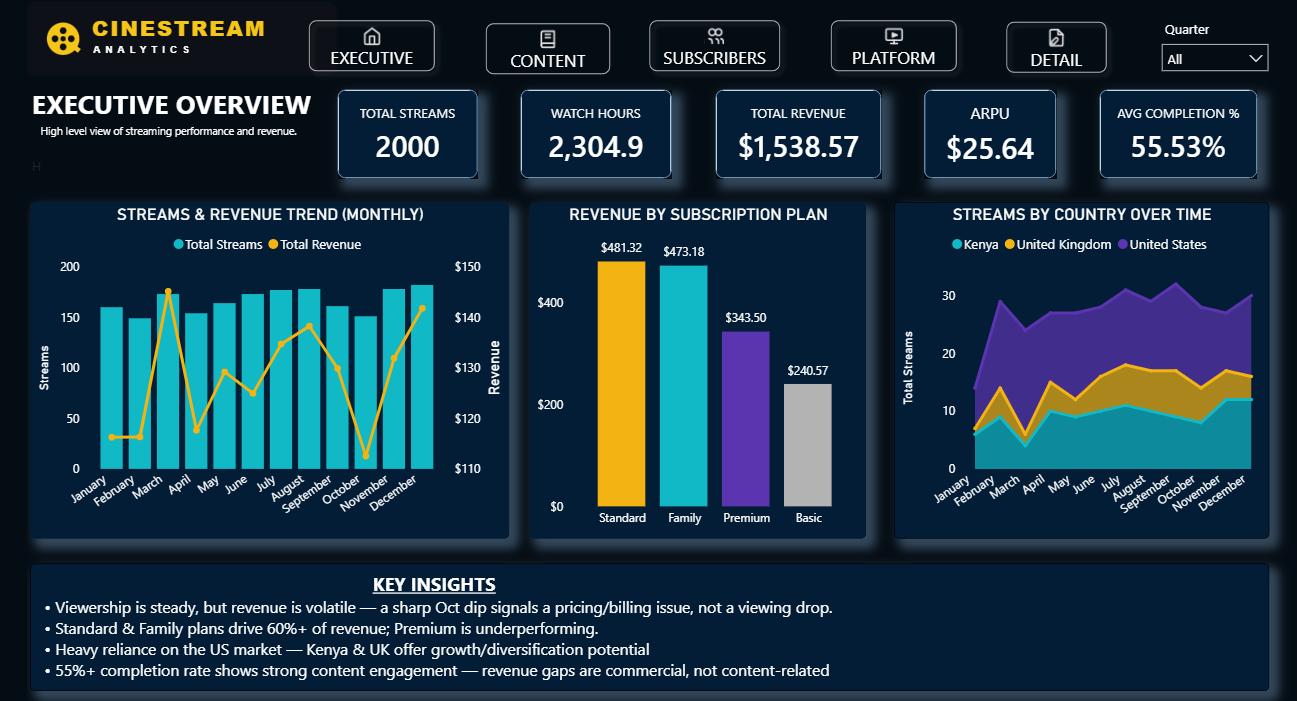

This screenshot's page, from the dashboard's own definition file:
{"tool":"powerbi","page":{"name":"EXECUTVE","canvas":[1280,720],"ordinal":0},"visuals":[{"type":"image","box":[0,0,314.1,82.6],"z":0},{"type":"slicer","fields":{"Values":["Date.Quarter"]},"box":[1141.6,16.2,127.9,69.6],"z":1000},{"type":"actionButton","box":[456.6,16.2,144.1,69.6],"z":2000},{"type":"actionButton","box":[621.8,13,150.6,69.6],"z":3000},{"type":"actionButton","box":[806.4,13,145.7,69.6],"z":4000},{"type":"actionButton","box":[984.5,14.6,119.8,69.6],"z":5000},{"type":"actionButton","box":[276.9,13,145.7,69.6],"z":6000},{"type":"textbox","box":[0,84.2,314.1,105.2],"z":7000},{"type":"cardVisual","fields":{"Data":["_Measures.Total Streams"]},"box":[314.1,92.3,142.5,90.7],"z":8000},{"type":"cardVisual","fields":{"Data":["_Measures.Total Watch Hours"]},"box":[500.3,92.3,153.8,90.7],"z":9000},{"type":"cardVisual","fields":{"Data":["_Measures.Total Revenue"]},"box":[697.9,92.3,168.4,90.7],"z":10000},{"type":"cardVisual","fields":{"Data":["_Measures.ARPU"]},"box":[910,92.3,134.4,90.7],"z":11000},{"type":"cardVisual","fields":{"Data":["_Measures.Avg Completion %"]},"box":[1088.1,92.3,160.3,90.7],"z":12000},{"type":"lineStackedColumnComboChart","title":"STREAMS & REVENUE TREND (MONTHLY)","fields":{"Category":["Date.MonthName"],"Y":["_Measures.Total Streams"],"Y2":["_Measures.Total Revenue"]},"box":[3.2,207.3,485.8,341.7],"z":13000},{"type":"clusteredColumnChart","title":"REVENUE BY SUBSCRIPTION PLAN","fields":{"Y":["_Measures.Total Revenue"],"Category":["Customer.SubscriptionPlan"]},"box":[510.1,207.3,341.7,341.7],"z":14000},{"type":"stackedAreaChart","title":"STREAMS BY COUNTRY OVER TIME","fields":{"Category":["Date.MonthName"],"Y":["_Measures.Total Streams"],"Series":["Customer.Country"]},"box":[879.2,207.3,380.5,341.7],"z":15000},{"type":"textbox","box":[3.2,573.2,1256.5,129.5],"z":16000}]}

Visuals, with their boxes on the page's 1280x720 design canvas (x1, y1, x2, y2). These are canvas units, not pixel positions in the 1297x701 screenshot, which may show the page scaled, cropped or inside an application window:
image: 0/0/314/83
slicer - Date.Quarter: 1142/16/1270/86
actionButton: 457/16/601/86
actionButton: 622/13/772/83
actionButton: 806/13/952/83
actionButton: 984/15/1104/84
actionButton: 277/13/423/83
textbox: 0/84/314/189
cardVisual - _Measures.Total Streams: 314/92/457/183
cardVisual - _Measures.Total Watch Hours: 500/92/654/183
cardVisual - _Measures.Total Revenue: 698/92/866/183
cardVisual - _Measures.ARPU: 910/92/1044/183
cardVisual - _Measures.Avg Completion %: 1088/92/1248/183
"STREAMS & REVENUE TREND (MONTHLY)" lineStackedColumnComboChart: 3/207/489/549
"REVENUE BY SUBSCRIPTION PLAN" clusteredColumnChart: 510/207/852/549
"STREAMS BY COUNTRY OVER TIME" stackedAreaChart: 879/207/1260/549
textbox: 3/573/1260/703
